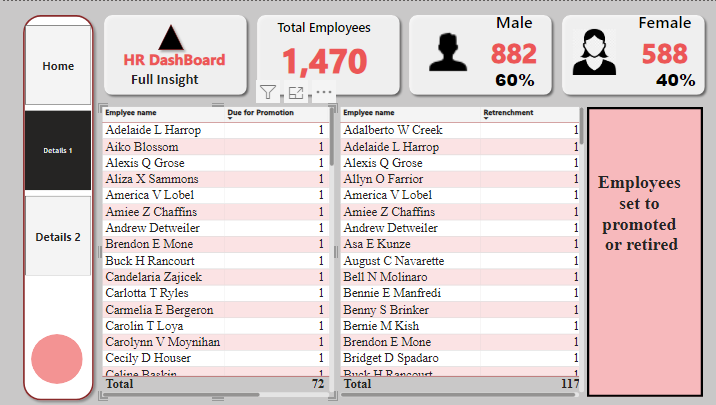

What the dashboard file says about the page in this screenshot:
{"tool":"powerbi","page":{"name":"Details 1","canvas":[1280,720],"ordinal":1},"visuals":[{"type":"shape","box":[448,16,272,160],"z":0},{"type":"shape","box":[720,16,272,160],"z":1000},{"type":"shape","box":[992,16,272,160],"z":2000},{"type":"card","title":"Total Employees","fields":{"Values":["All Measures.Total Emp"]},"box":[480,32,192,112],"z":3000},{"type":"card","title":"Male","fields":{"Values":["All Measures.Male"]},"box":[819.7,15.4,193.4,111.2],"z":4000},{"type":"card","title":"Female","fields":{"Values":["All Measures.Female"]},"box":[1088.3,15.4,191.7,111.2],"z":5000},{"type":"card","title":"Male","fields":{"Values":["All Measures.Male %"]},"box":[855.6,95.8,121.5,87.3],"z":6000},{"type":"card","title":"Male","fields":{"Values":["All Measures.Female %"]},"box":[1143.1,95.8,121.5,87.3],"z":7000},{"type":"image","box":[744.4,35.9,104.4,102.7],"z":8000},{"type":"image","box":[1014.8,42.8,87.3,95.8],"z":9000},{"type":"tableEx","fields":{"Values":["HR Analytics Data.Emplyee name","All Measures.Retrenchment"]},"box":[599.9,183.4,445.1,527],"z":10000},{"type":"tableEx","fields":{"Values":["HR Analytics Data.Emplyee name","All Measures.Due for Promotion","All Measures.Retrenchment"]},"box":[176.2,183.4,423.7,527],"z":11000},{"type":"shape","box":[1045,188.7,206.5,516.3],"z":12000},{"type":"textbox","box":[1045,235,194,300.9],"z":13000},{"type":"shape","box":[32,16,144,704],"z":14000},{"type":"shape","box":[54.8,592.1,92.4,89],"z":15000},{"type":"pageNavigator","box":[44.5,42.8,118.1,448.3],"z":16000},{"type":"shape","box":[176,16,272,160],"z":17000},{"type":"shape","box":[272,32,64,64],"z":18000},{"type":"textbox","box":[208,80,208,80],"z":19000}]}

Visuals, with their boxes in screenshot pixels (x1, y1, x2, y2), scaled from the page's 1280x720 canvas onto the 716x405 screenshot:
shape: <region>251, 9, 403, 99</region>
shape: <region>403, 9, 555, 99</region>
shape: <region>555, 9, 707, 99</region>
"Total Employees" card: <region>268, 18, 376, 81</region>
"Male" card: <region>459, 9, 567, 71</region>
"Female" card: <region>609, 9, 715, 71</region>
"Male" card: <region>479, 54, 547, 103</region>
"Male" card: <region>639, 54, 707, 103</region>
image: <region>416, 20, 475, 78</region>
image: <region>568, 24, 616, 78</region>
tableEx - HR Analytics Data.Emplyee name x All Measures.Retrenchment: <region>336, 103, 585, 400</region>
tableEx - HR Analytics Data.Emplyee name x All Measures.Due for Promotion: <region>99, 103, 336, 400</region>
shape: <region>585, 106, 700, 397</region>
textbox: <region>585, 132, 693, 301</region>
shape: <region>18, 9, 98, 404</region>
shape: <region>31, 333, 82, 383</region>
pageNavigator: <region>25, 24, 91, 276</region>
shape: <region>98, 9, 251, 99</region>
shape: <region>152, 18, 188, 54</region>
textbox: <region>116, 45, 233, 90</region>
